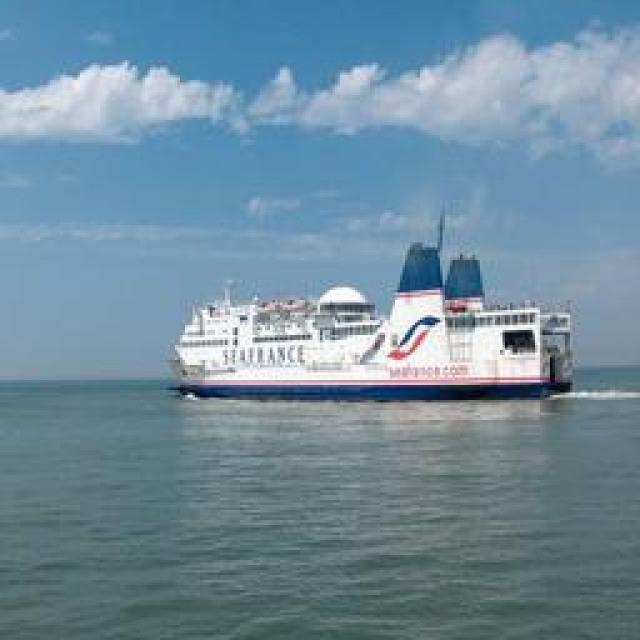CIV_Ship: (165, 236, 570, 402)
